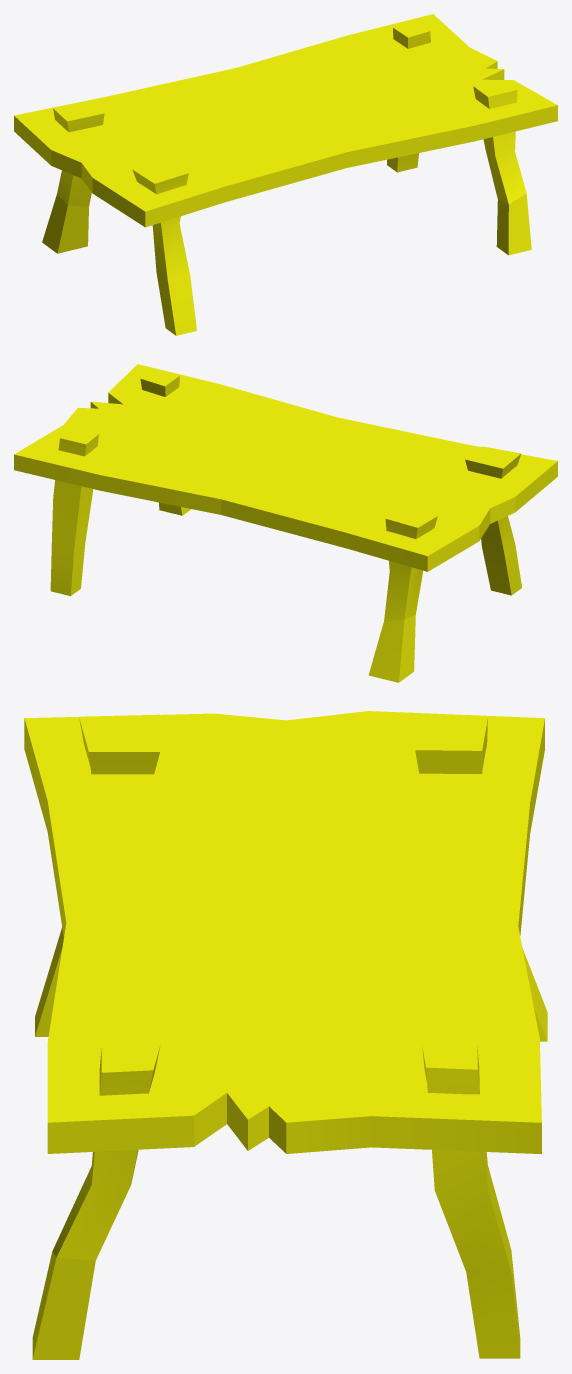
3 renders of one model, top to bottom at view 1: azimuth 30°, elevation 25°; view 2: azimuth 150°, elevation 25°; view 3: azimuth 270°, elevation 25°, orthographic. The views are drawn at different scales.
Visible parts, largest first — view 1: table_wooden; view 2: table_wooden; view 3: table_wooden.
Part boxes in pixels (left/top/right/bottom): table_wooden: left=14, top=14, right=557, bottom=335; table_wooden: left=14, top=364, right=557, bottom=682; table_wooden: left=24, top=711, right=547, bottom=1359.
Size of the model in its own units: 0.018 by 0.0059 by 0.00964.
Materials: 1 (1 with a texture image).
